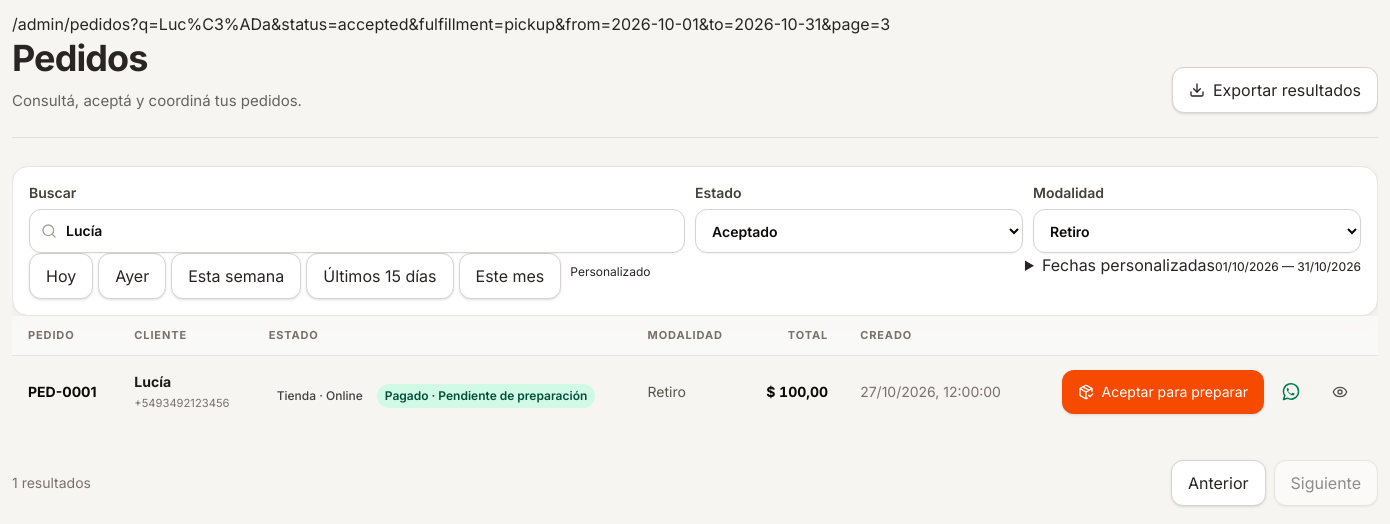
Test: order date range › hydrates every filter from the URL and resets the page when one changes
Expected: the table is shown, [12,316,1378,428]
Expected: the field labelled "Buscar" holds "Lucía", [29,209,685,253]
Select "Entregado" in the dropdown labelled "Estado" at (859, 231), box [695,209,1023,253]
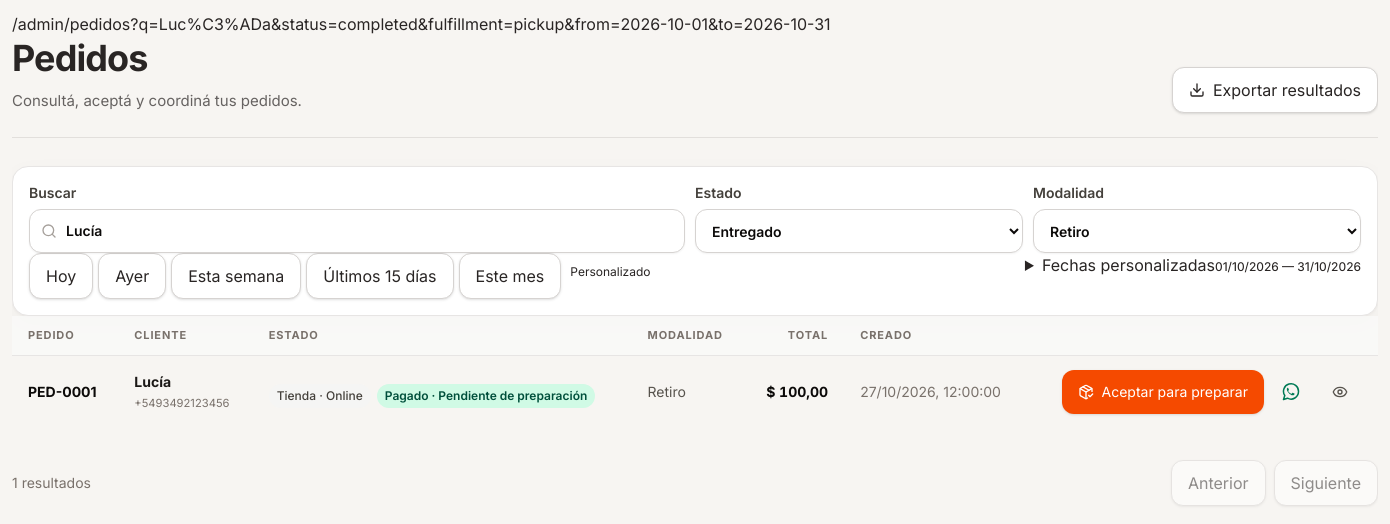
Expected: the text with test id "current-location" shows "q=Luc%C3%ADa", [12,14,831,34]
Now the text with test id "current-location" shows "status=completed", box [12,14,831,34]
Now the text with test id "current-location" no longer shows "page=", box [12,14,831,34]
